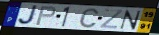1: (61, 6, 71, 28)
C: (78, 7, 100, 29)
J: (17, 5, 39, 26)
N: (118, 9, 142, 31)
P: (34, 6, 57, 26)
Z: (99, 9, 124, 30)
